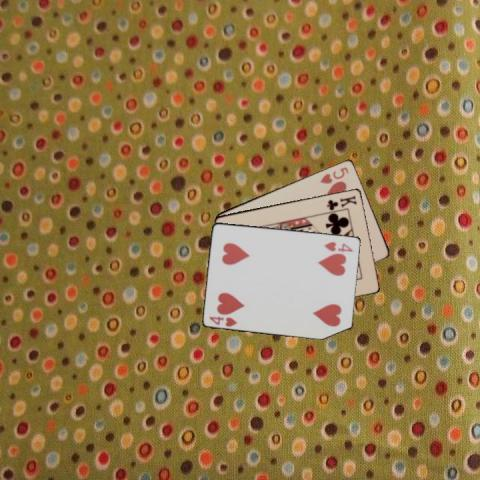4h: (206, 313, 239, 328), (321, 238, 354, 252)
5h: (317, 163, 350, 185)
Kc: (324, 192, 358, 210)
